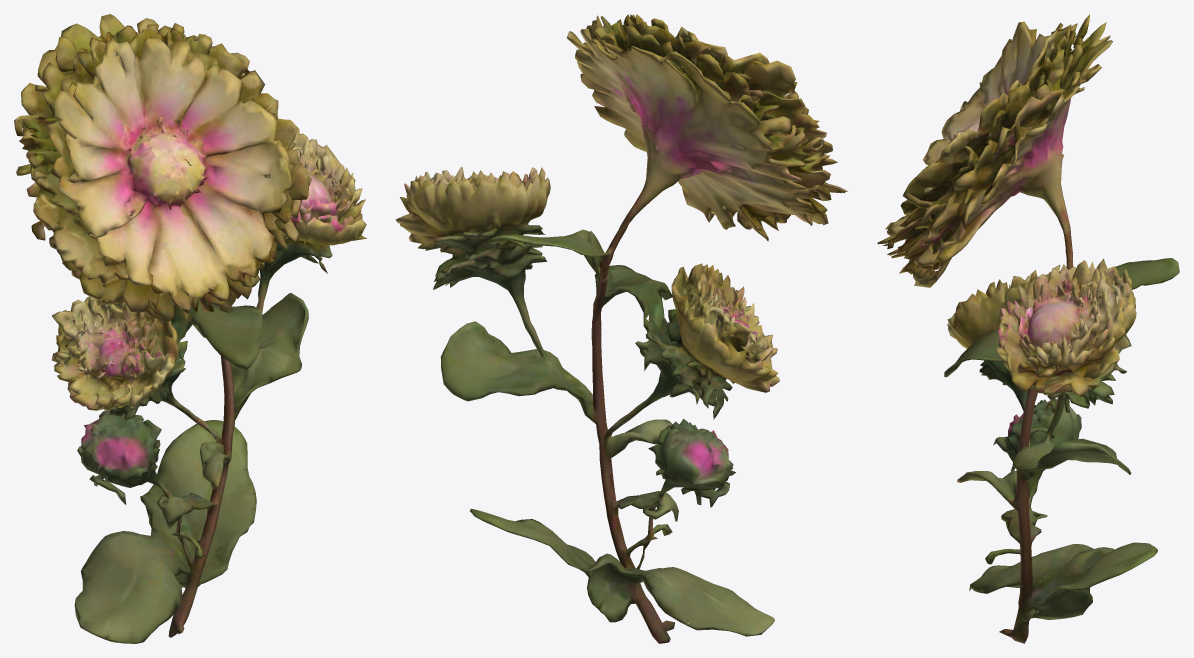
3 renders of one model, left to right at view 1: azimuth 30°, elevation 25°; view 2: azimuth 150°, elevation 25°; view 3: azimuth 270°, elevation 25°, orthographic. The views are drawn at different scales.
Bounding box in the file's own units: 1.25 × 2 × 0.924.
1 material, 1 textured.
